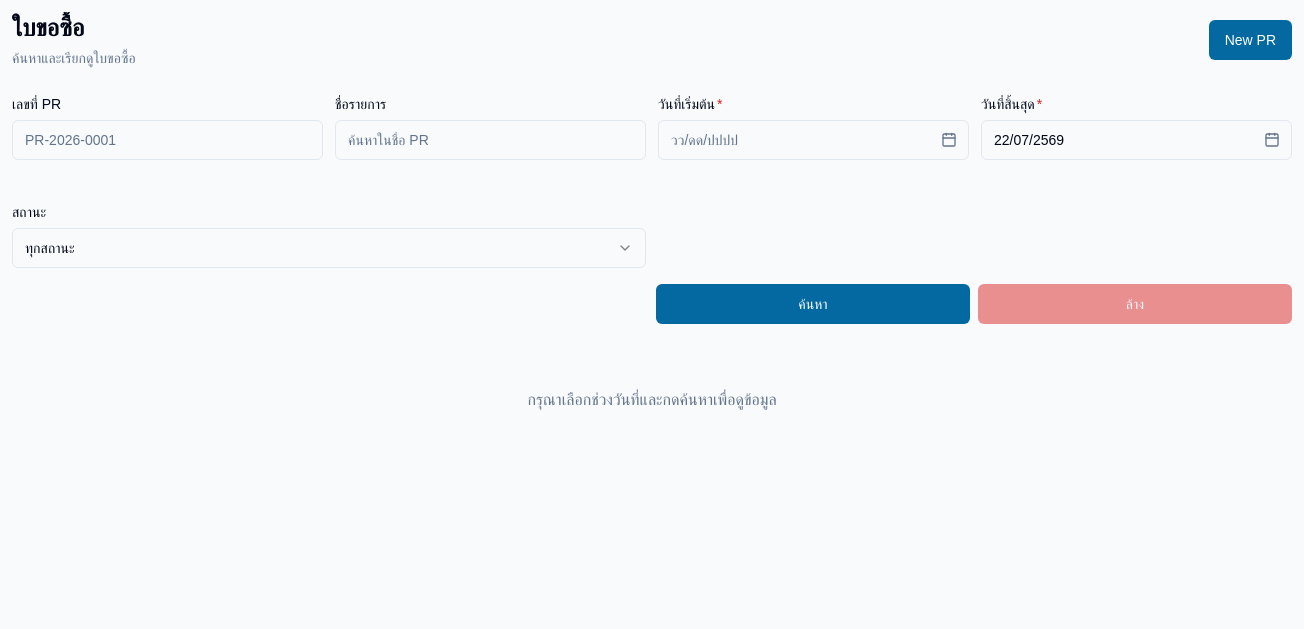
it: PRListPage › shows loading skeleton after submit
Type "01012569" into the field labelled "วันที่เริ่มต้น*".
click(814, 140); type("01012569")  # box [658, 120, 969, 160]
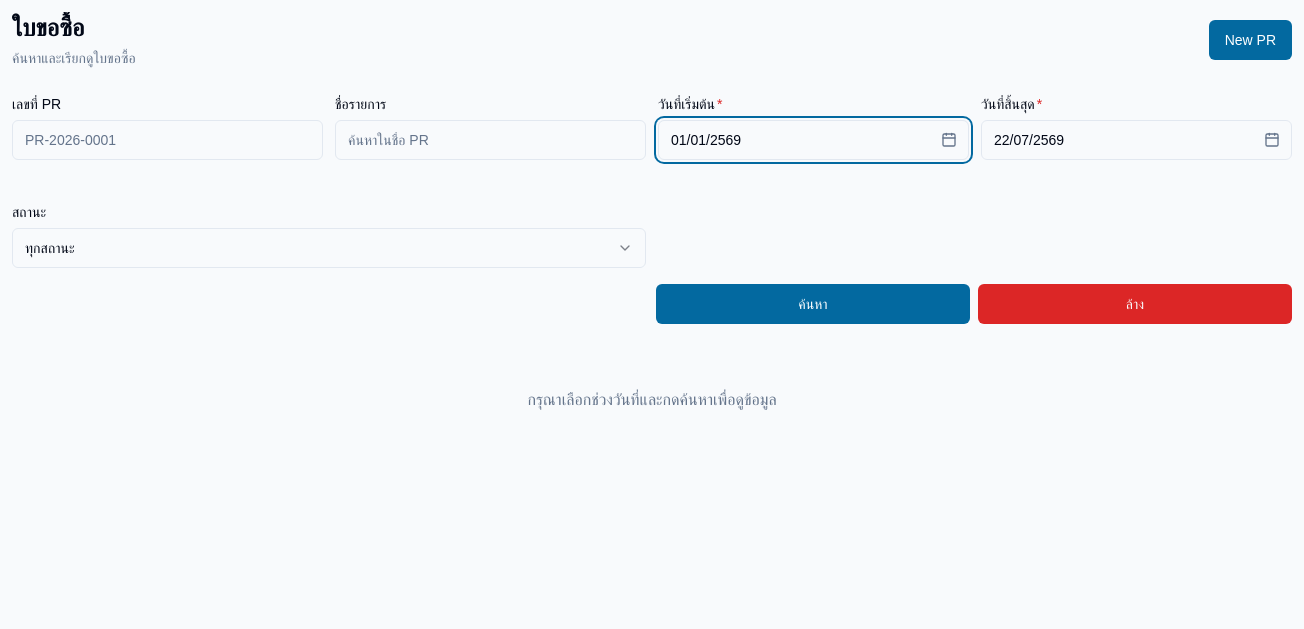
Replace the text in the field labelled "วันที่สิ้นสุด*" with "31122569" at (1136, 140), box [981, 120, 1292, 160]
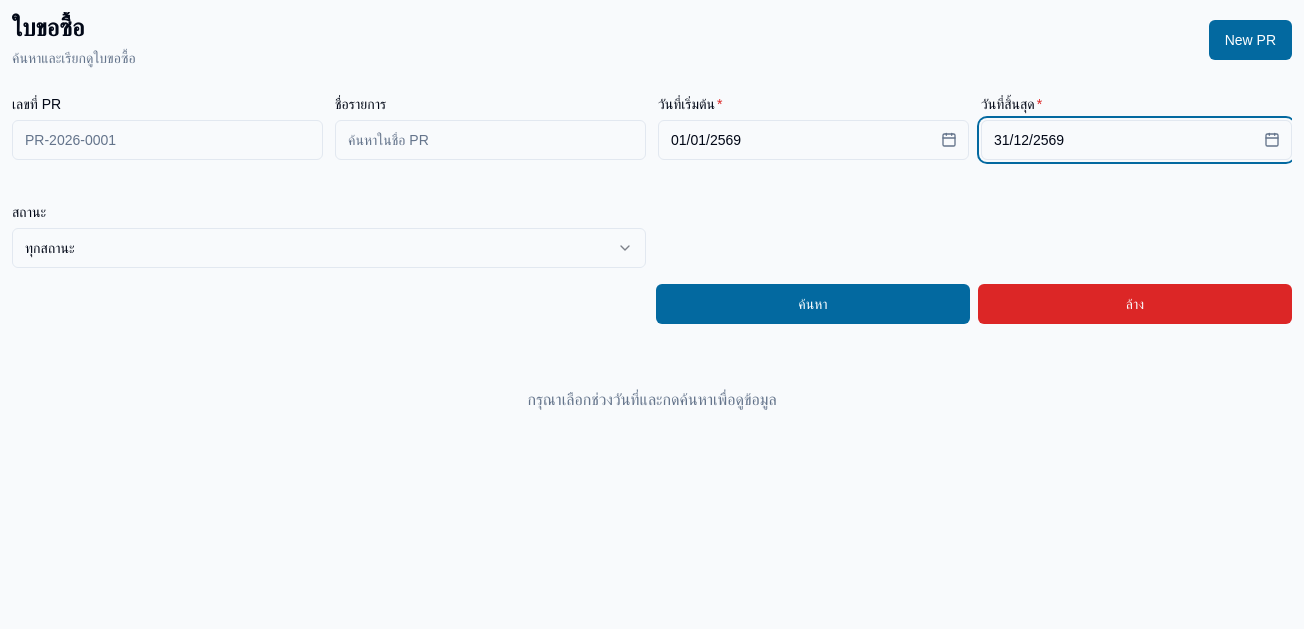
Click the button "ค้นหา".
click(813, 304)  # box [656, 284, 970, 324]
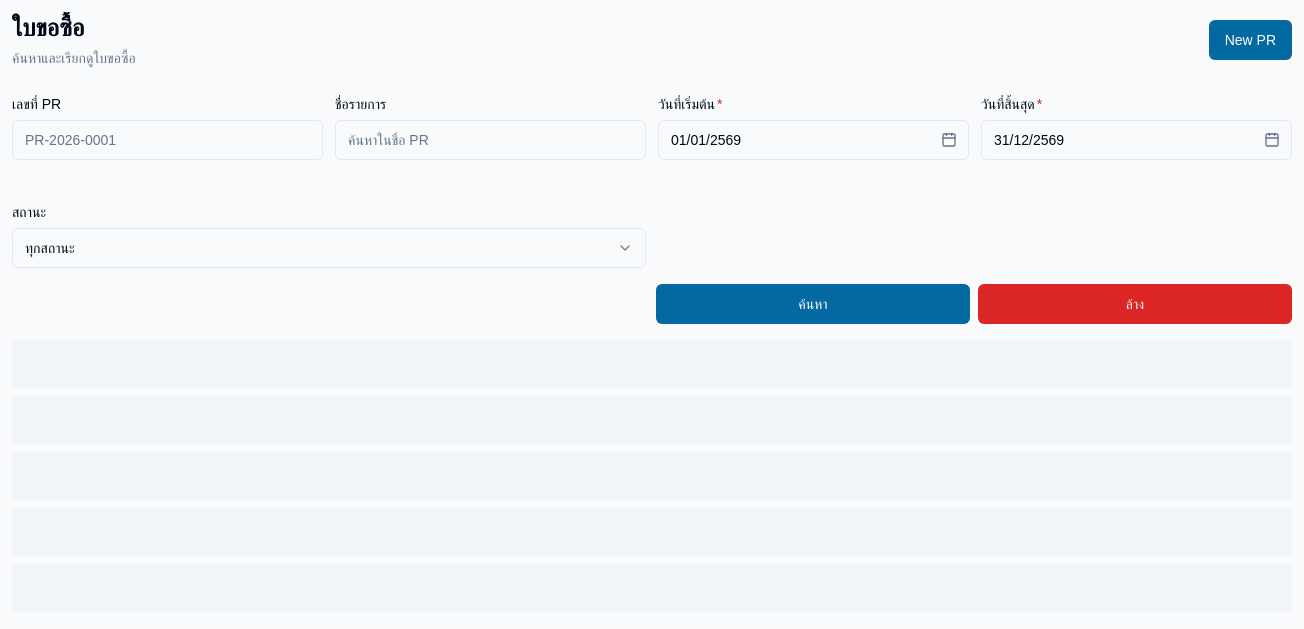
Expected: the text "กรุณาเลือกช่วงวันที่และกดค้นหา" is gone
